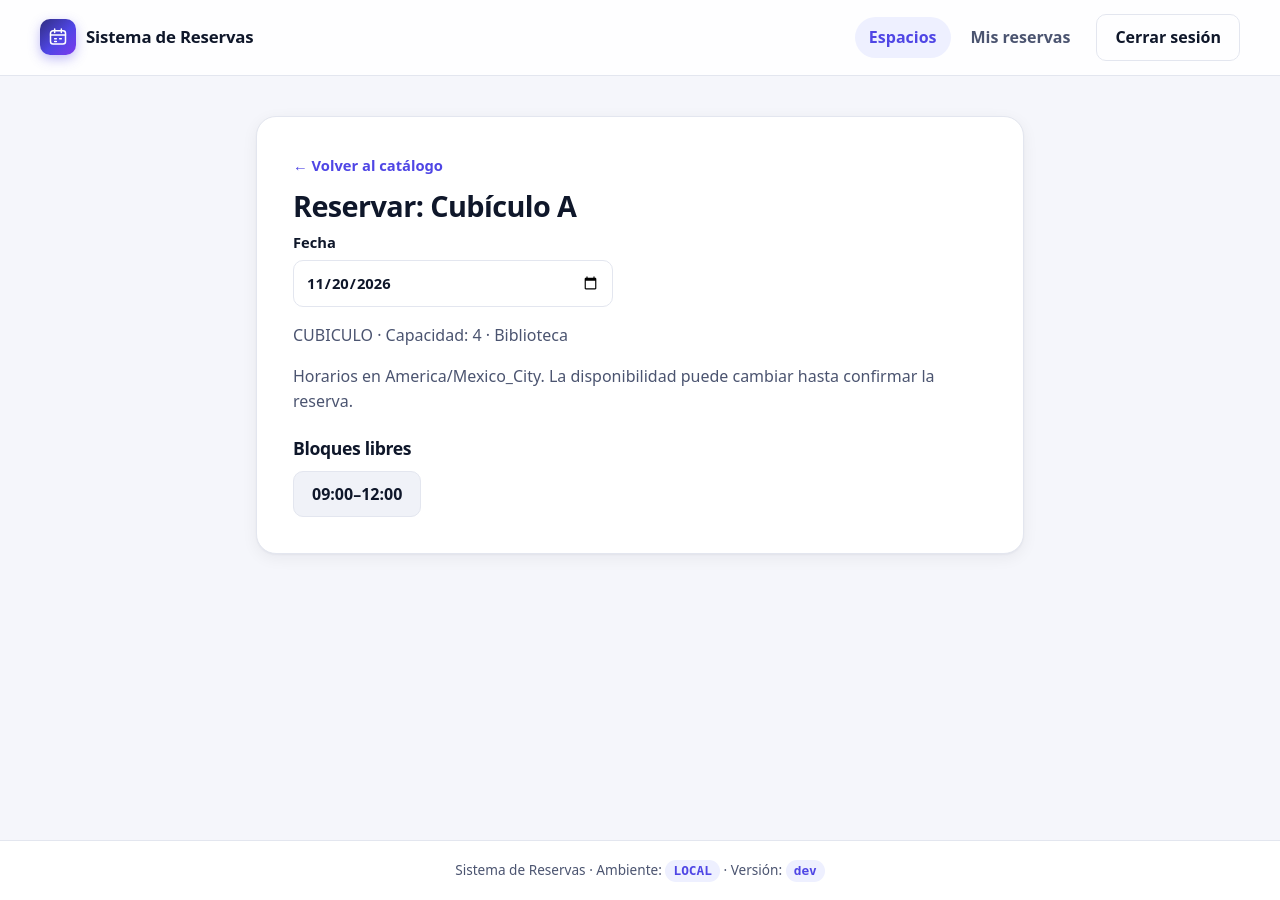
Test: un 409 conserva la pantalla y fecha, recarga bloques y permite otro intento
Step 1. Click the button "09:00–12:00" → (357, 494), box [293,471,421,518]
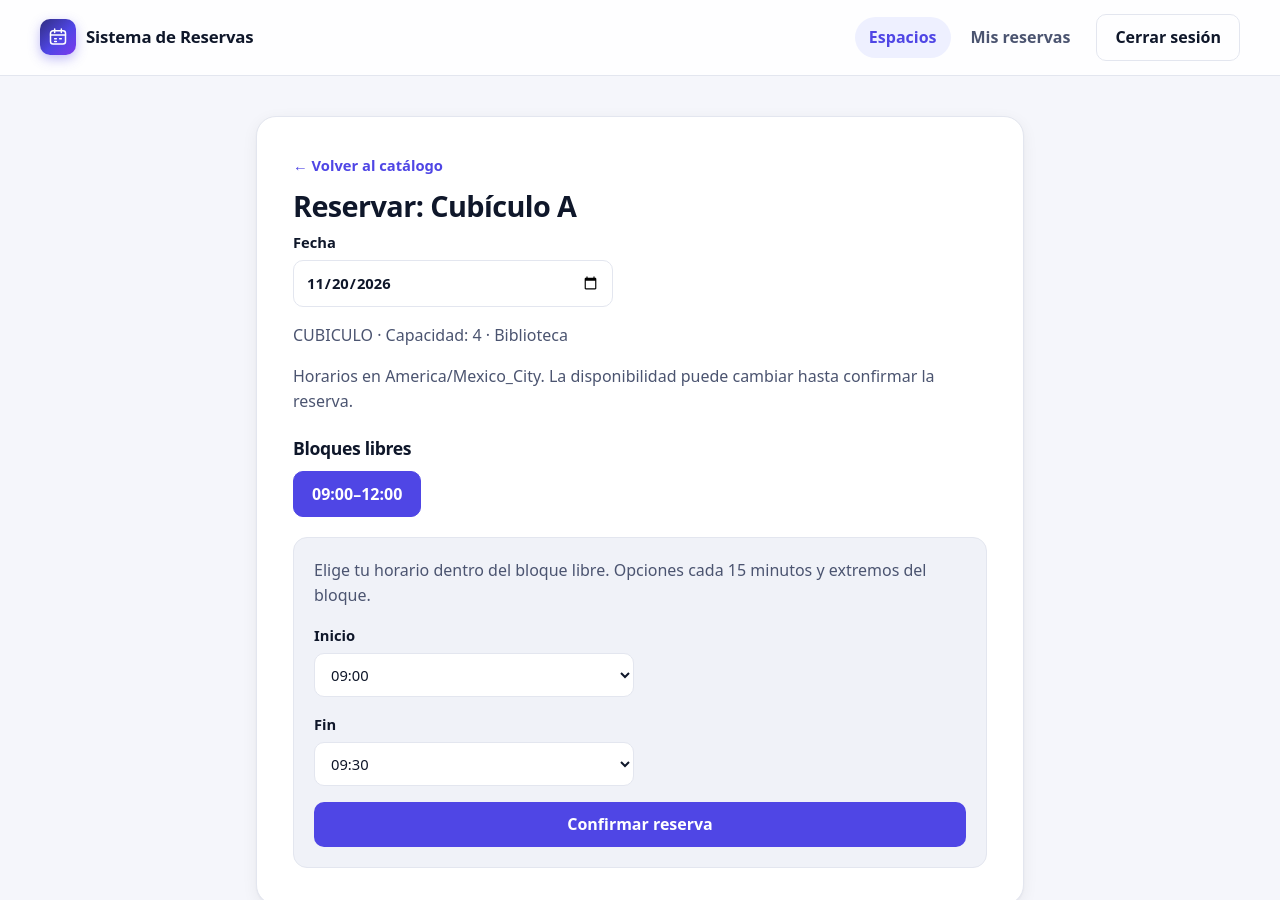
Step 2. Click the button "Confirmar reserva" → (640, 825), box [314,802,966,847]
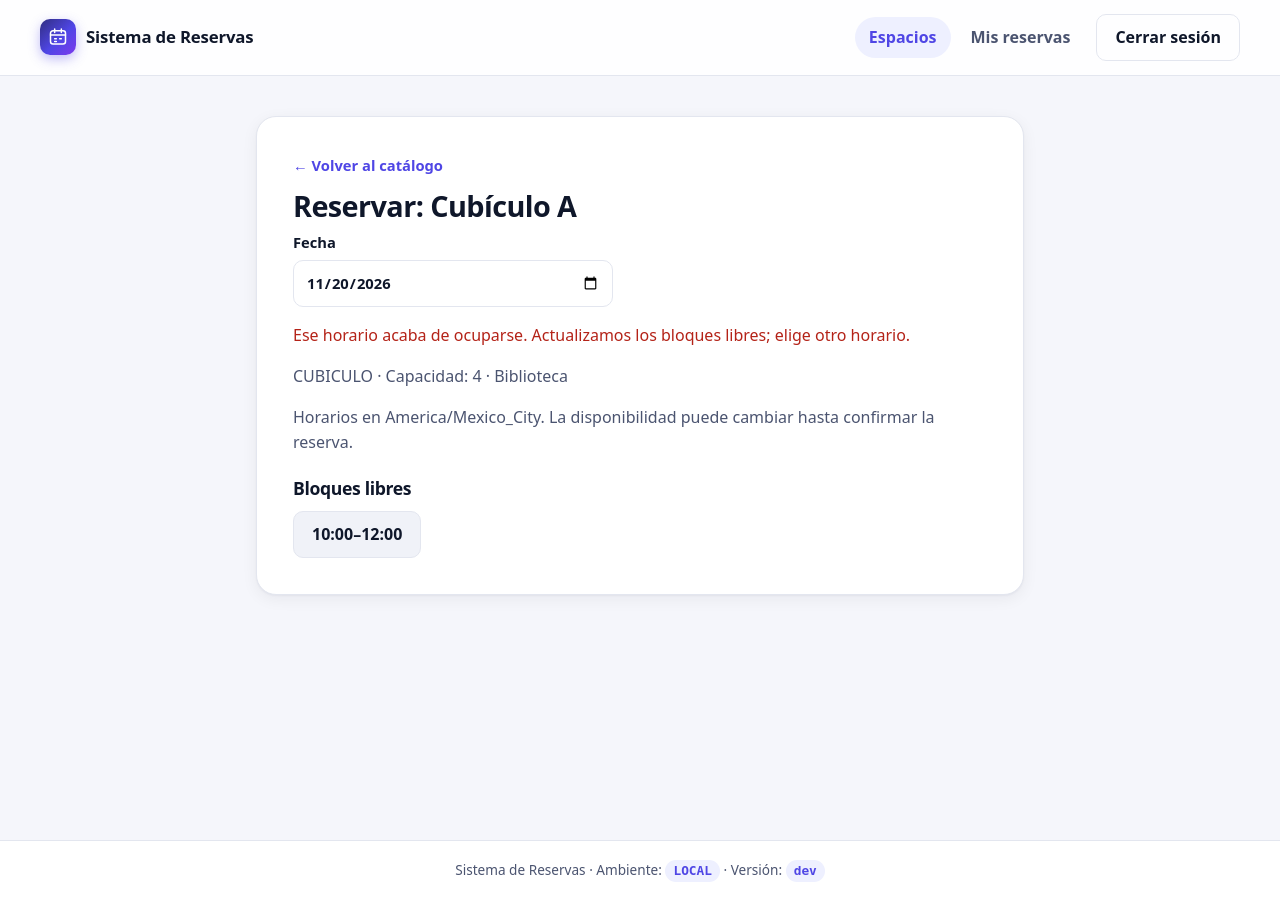
Expected: the message shows "acaba de ocuparse", [293,324,910,346]
Step 3. Click the button "10:00–12:00" → (357, 535), box [293,512,421,558]
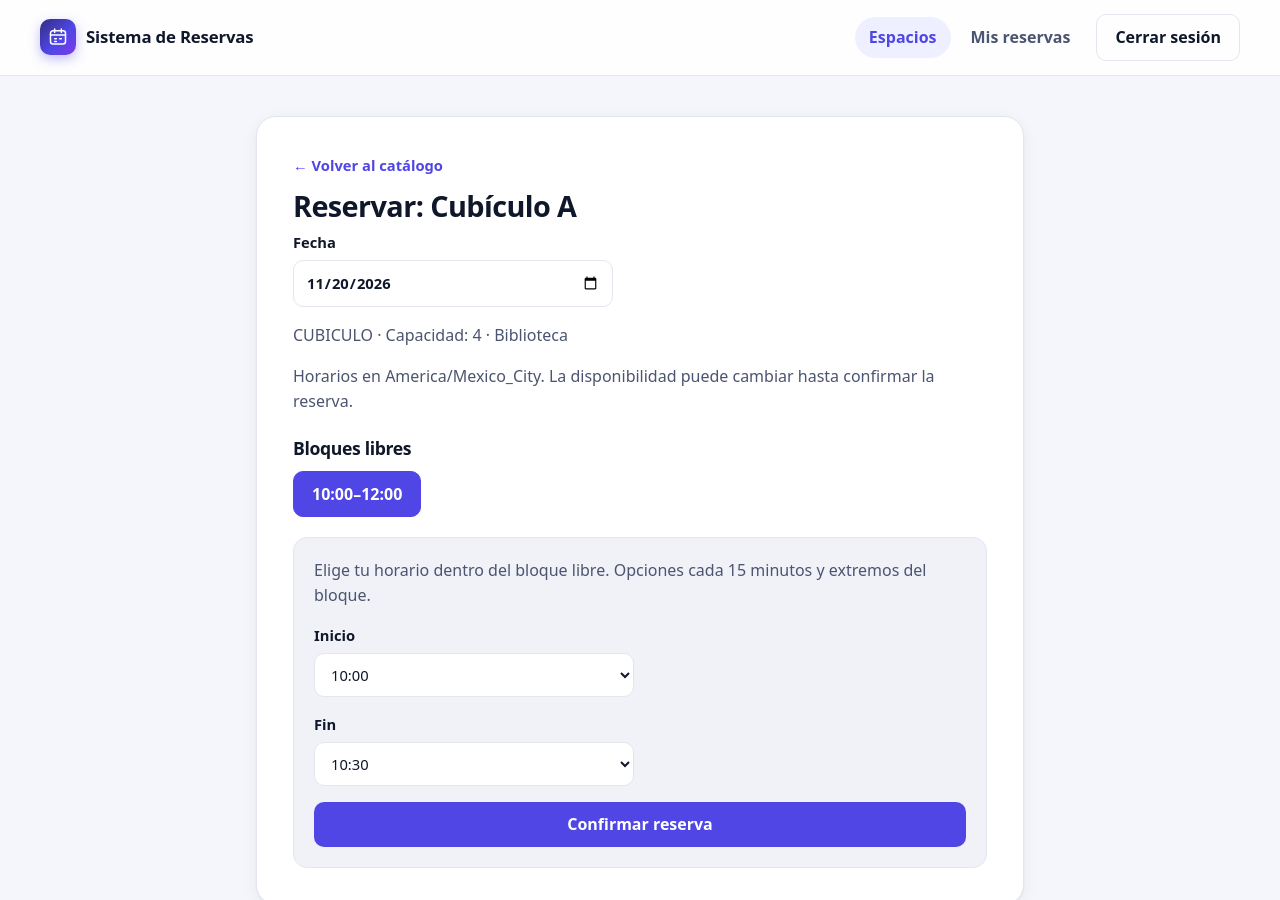
Expected: the date field labelled "Fecha" holds "2026-11-20", [293,260,613,307]
Step 4. Click the button "Confirmar reserva" → (640, 825), box [314,802,966,847]
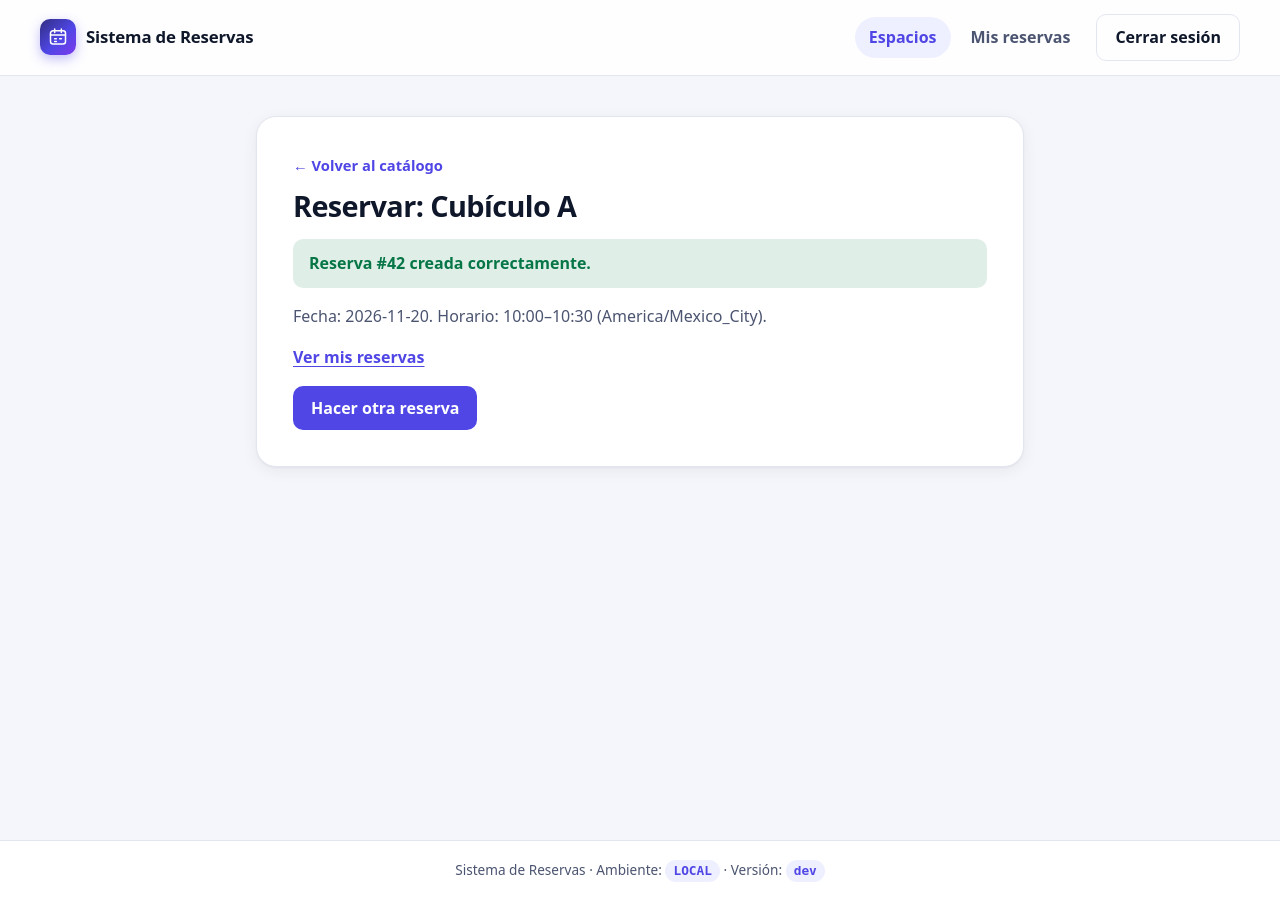
Expected: the message shows "creada correctamente", [405,252,591,274]
